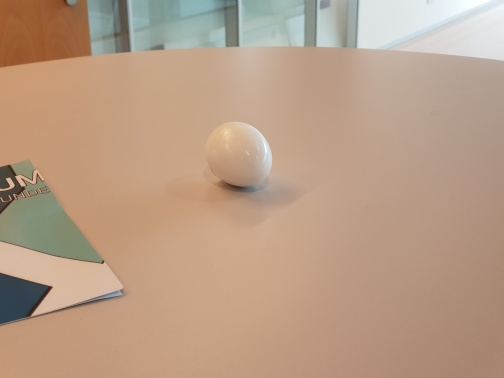egg: (203, 120, 274, 189)
